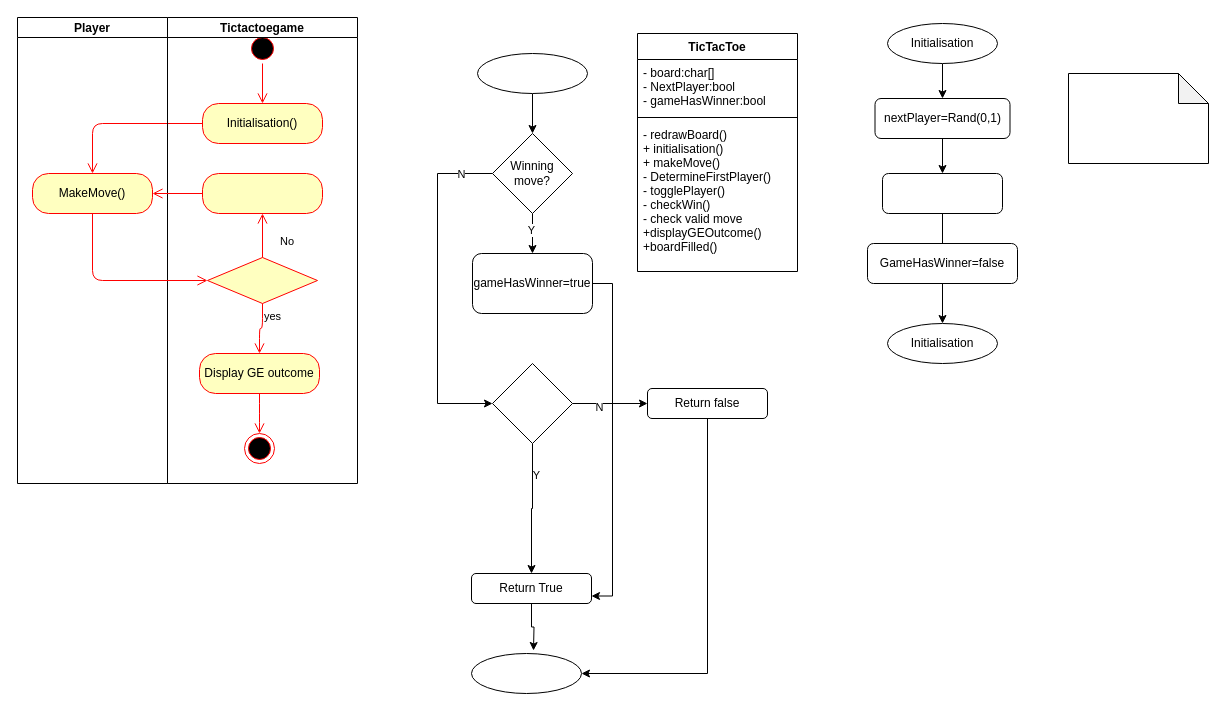
The diagram is 1226 pixels wide and 711 high, and some of its shapes have lost their labels. The shapes that lost their labels are listed below. From the top down, each one's centre as x and y in pixels, then its label:
At (532,73): "Game Ending".
At (1138,118): "nextPlayer is O if nextPlayer==0 and X if nextPlayer==1".
At (262,193): "togglePlayer()".
At (942,193): "DrawBoard()".
At (262,280): "Game/Ending?".
At (532,403): "Board filled?".
At (526,673): "end".
